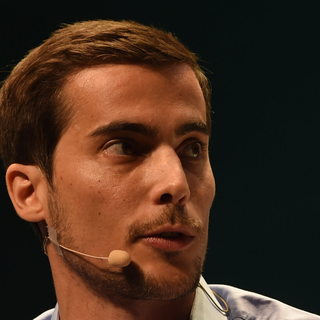eye: (93, 135, 146, 161), (171, 134, 207, 164)
